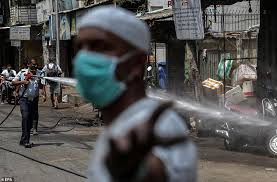mask: (61, 10, 152, 111), (23, 53, 42, 77), (3, 62, 13, 72)
